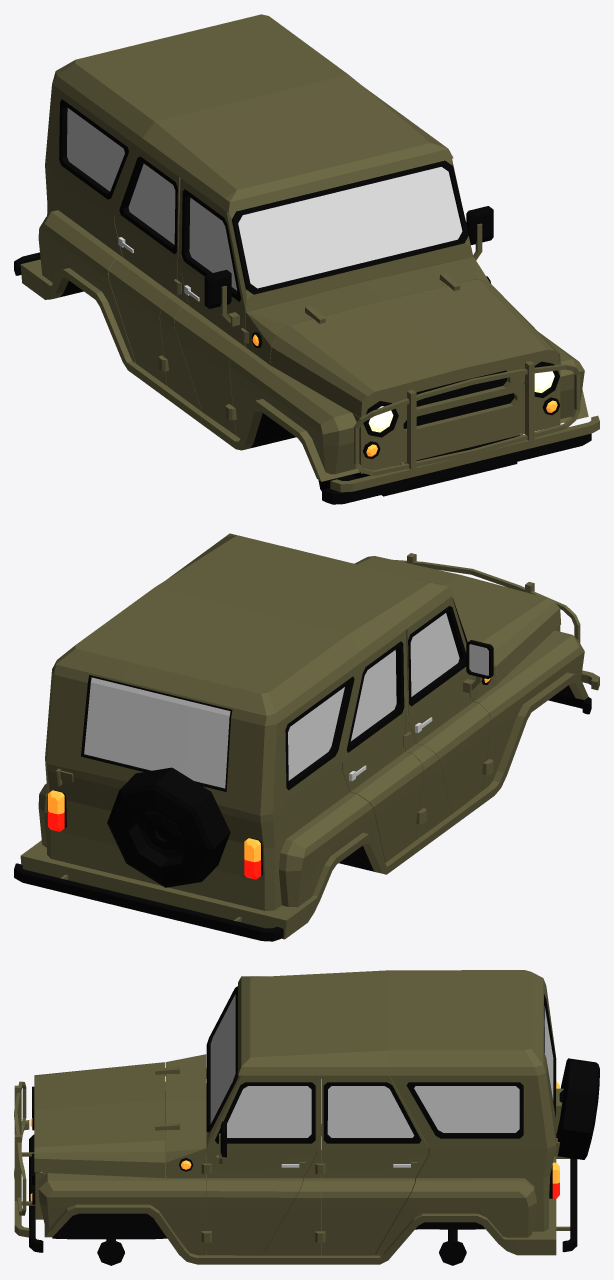
The model's file is vehicle.fbx.
The picture shows the model from 3 angles, top to bottom: view 1: azimuth 30°, elevation 25°; view 2: azimuth 150°, elevation 25°; view 3: azimuth 270°, elevation 25°; orthographic projection. The views are drawn at different scales.
Visible parts, largest first — view 1: Soviet offroad vehicle body.002; view 2: Soviet offroad vehicle body.002; view 3: Soviet offroad vehicle body.002.
Boxes of the visible parts, bbox=[...] form: Soviet offroad vehicle body.002: bbox=[14, 14, 599, 504]; Soviet offroad vehicle body.002: bbox=[14, 533, 599, 941]; Soviet offroad vehicle body.002: bbox=[14, 970, 599, 1265].
Bounding box in the file's own units: 296 × 255 × 618.
